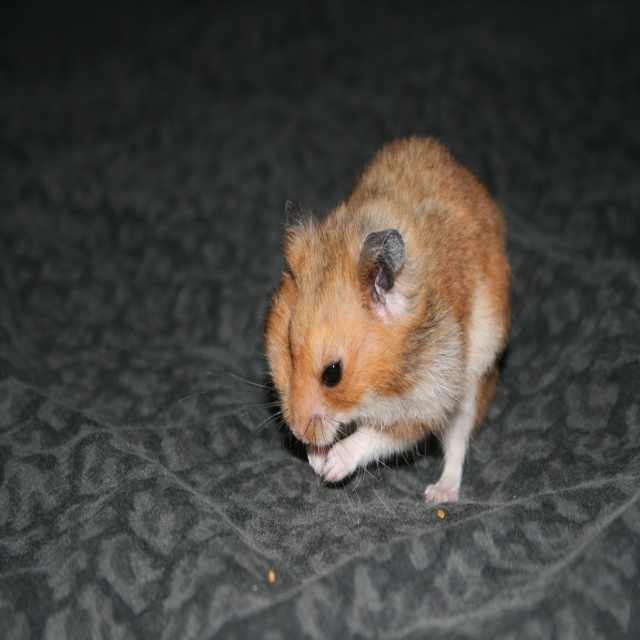Mouse: (180, 139, 508, 522)
